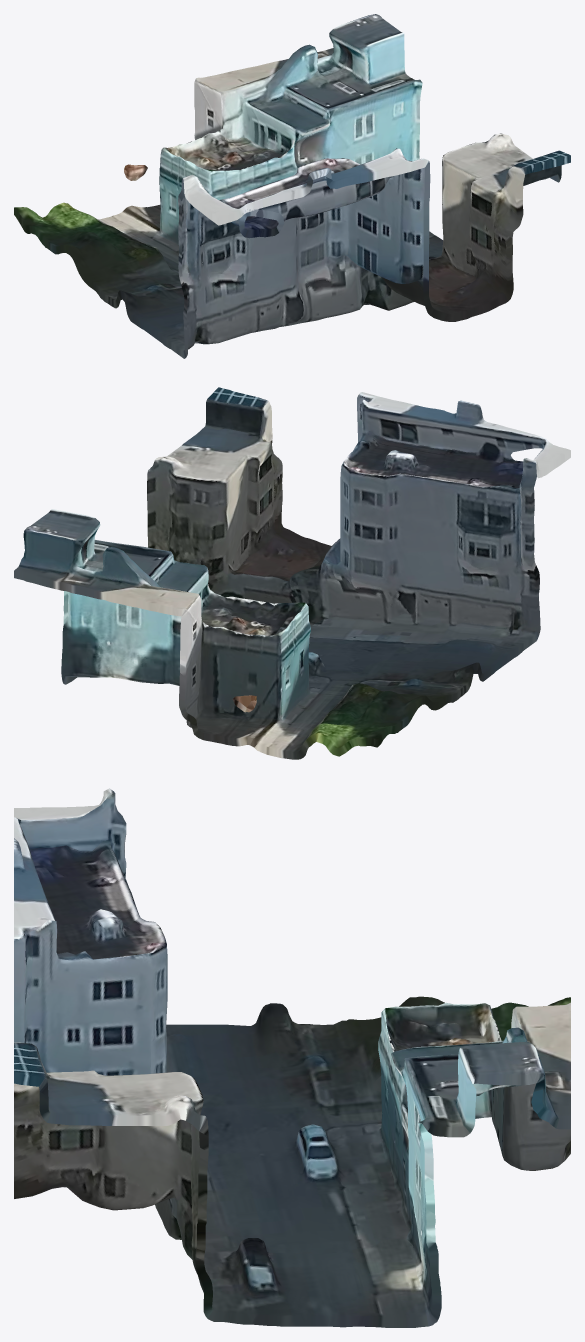
File: z20-167748-405192-h0-yup-uvflip-v3-world.glb
The picture shows the model from 3 angles, top to bottom: view 1: azimuth 30°, elevation 25°; view 2: azimuth 150°, elevation 25°; view 3: azimuth 270°, elevation 25°; orthographic projection. The views are drawn at different scales.
Size of the model in its own units: 30.16 by 19.04 by 30.32.
1 material, 1 textured.
